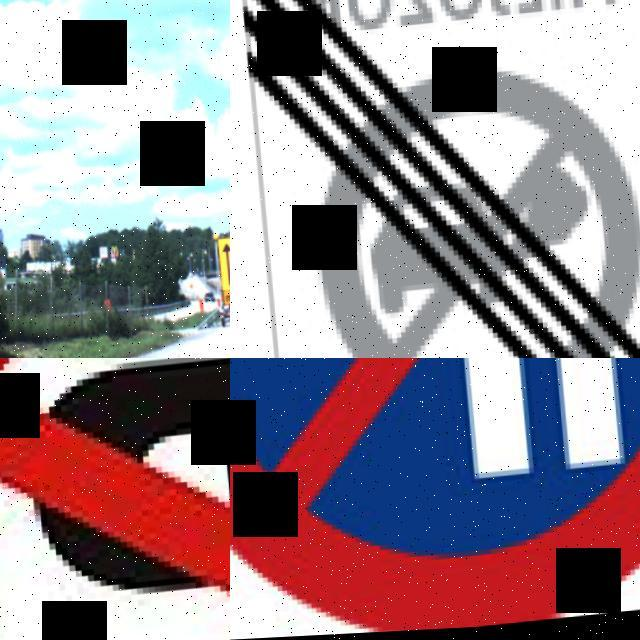110: (239, 0, 640, 358)
20: (230, 358, 640, 640)
64: (211, 234, 230, 298)
No parking: (0, 358, 230, 640)
